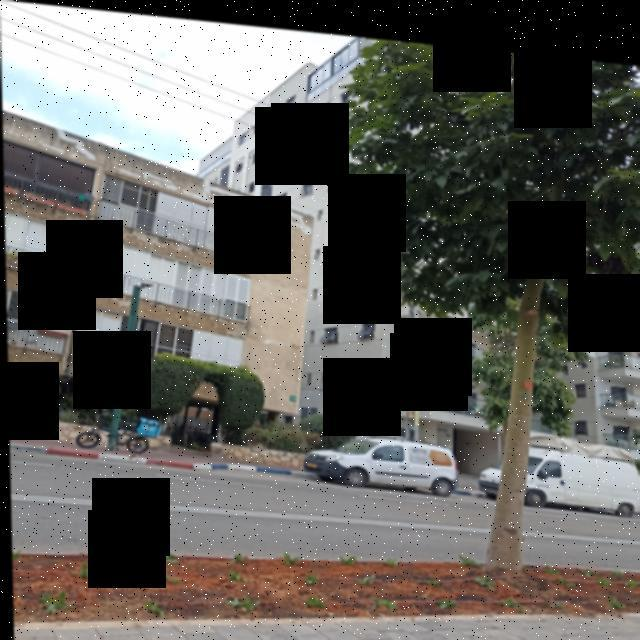Window: (335, 75, 357, 101), (356, 312, 376, 334), (324, 233, 344, 255), (320, 318, 340, 339), (322, 274, 341, 296), (360, 265, 378, 288), (329, 191, 347, 214), (364, 220, 382, 242), (303, 101, 320, 122), (608, 371, 627, 389), (316, 364, 334, 382), (299, 171, 313, 194), (610, 412, 630, 428), (356, 362, 372, 382), (286, 86, 300, 108), (274, 184, 288, 205), (605, 336, 624, 351), (572, 406, 586, 425), (302, 136, 314, 158), (267, 98, 280, 118), (282, 118, 293, 140), (249, 142, 260, 163), (245, 173, 258, 190), (280, 150, 290, 172), (572, 369, 584, 387), (311, 241, 321, 257), (233, 154, 244, 168), (318, 164, 326, 183), (254, 115, 262, 132), (316, 202, 325, 217), (308, 322, 316, 338), (323, 94, 332, 108), (237, 126, 244, 144), (309, 282, 317, 294), (303, 366, 310, 379)
